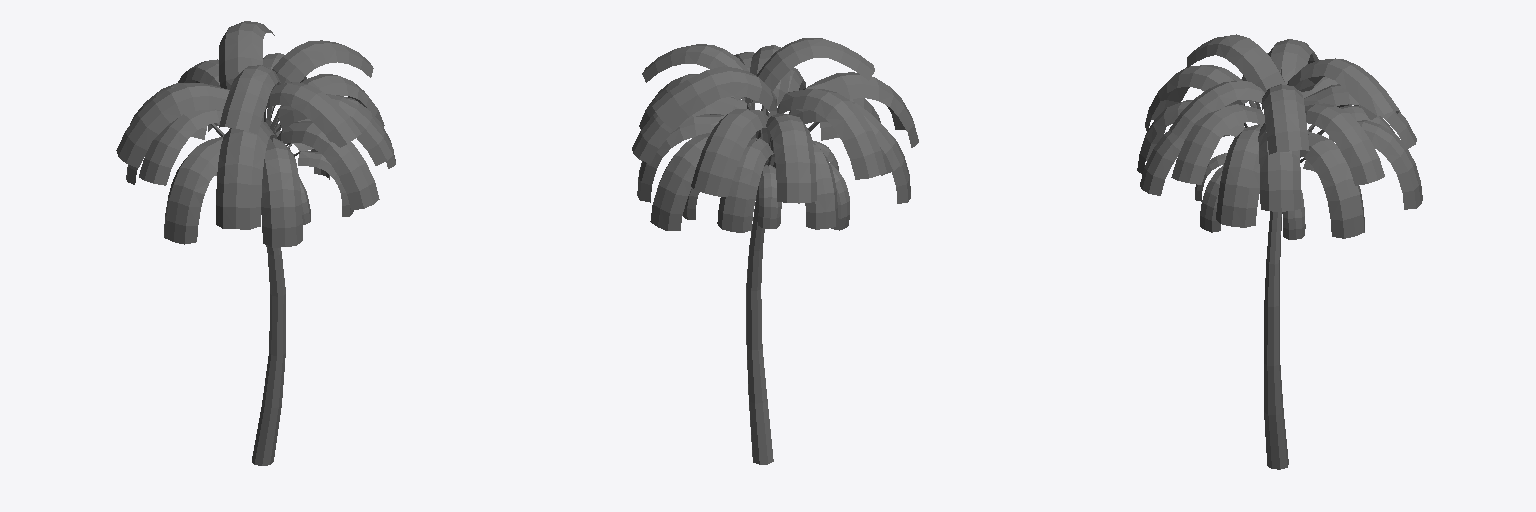
Rendered from trees.obj.
The picture shows the model from 3 angles: view 1: azimuth 30°, elevation 25°; view 2: azimuth 150°, elevation 25°; view 3: azimuth 270°, elevation 25°; orthographic projection.
Bounding box in the file's own units: 5.22 × 8.25 × 5.18.